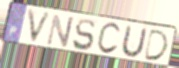C: (95, 22, 122, 56)
D: (142, 28, 170, 62)
N: (44, 13, 75, 49)
S: (71, 18, 96, 53)
U: (119, 24, 149, 59)
V: (26, 8, 53, 47)
